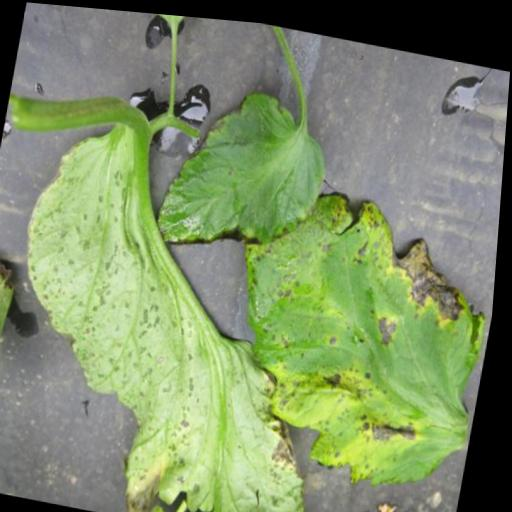Bacterial Spot: (203, 170, 503, 494)
